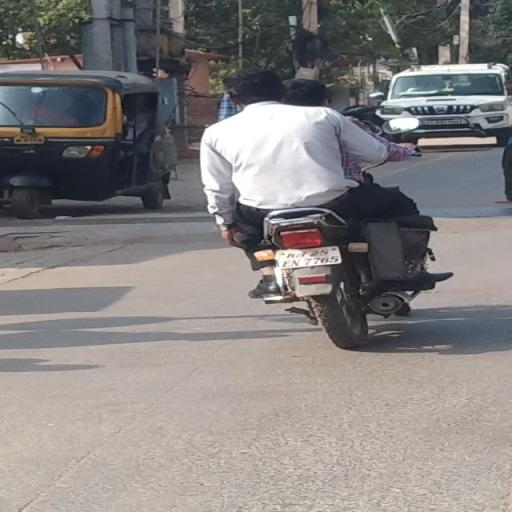bike: (194, 65, 462, 352)
numberplate: (273, 243, 340, 271)
withouthelmet: (226, 70, 280, 104), (287, 81, 330, 107)
